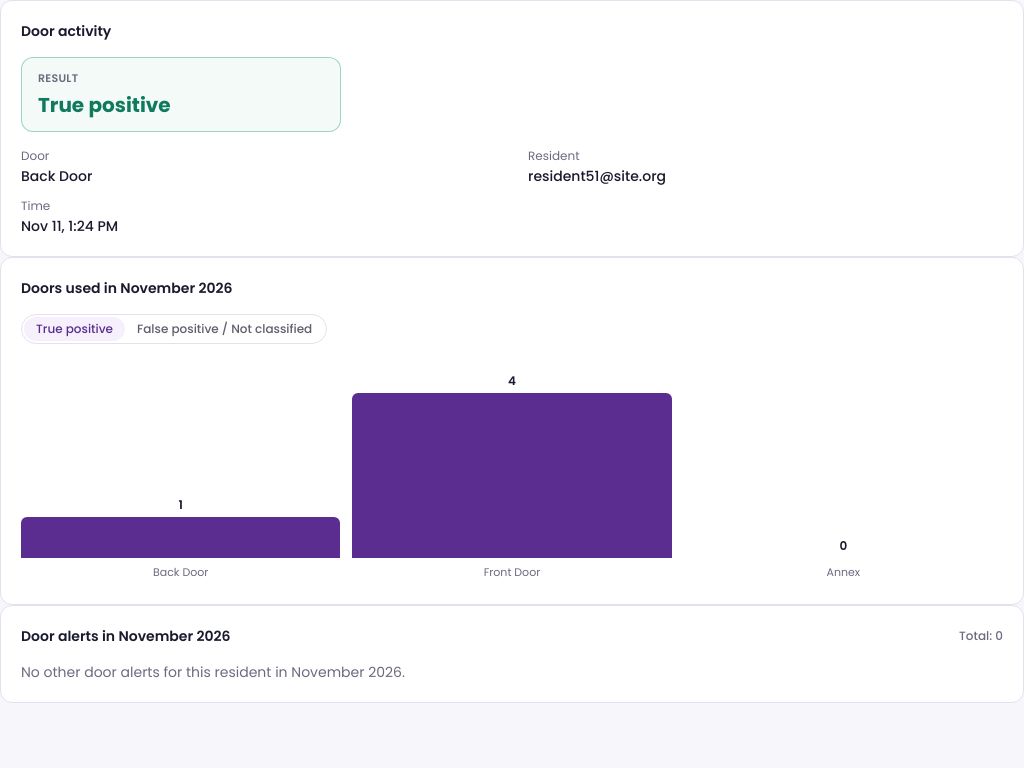
Scenario: DoorSection: doors used chart › toggles to false positive / not classified without reordering the doors
The image size is (1024, 768).
Click the button "False positive / Not classified" at coordinates (225, 328), box [125,316,324,340]
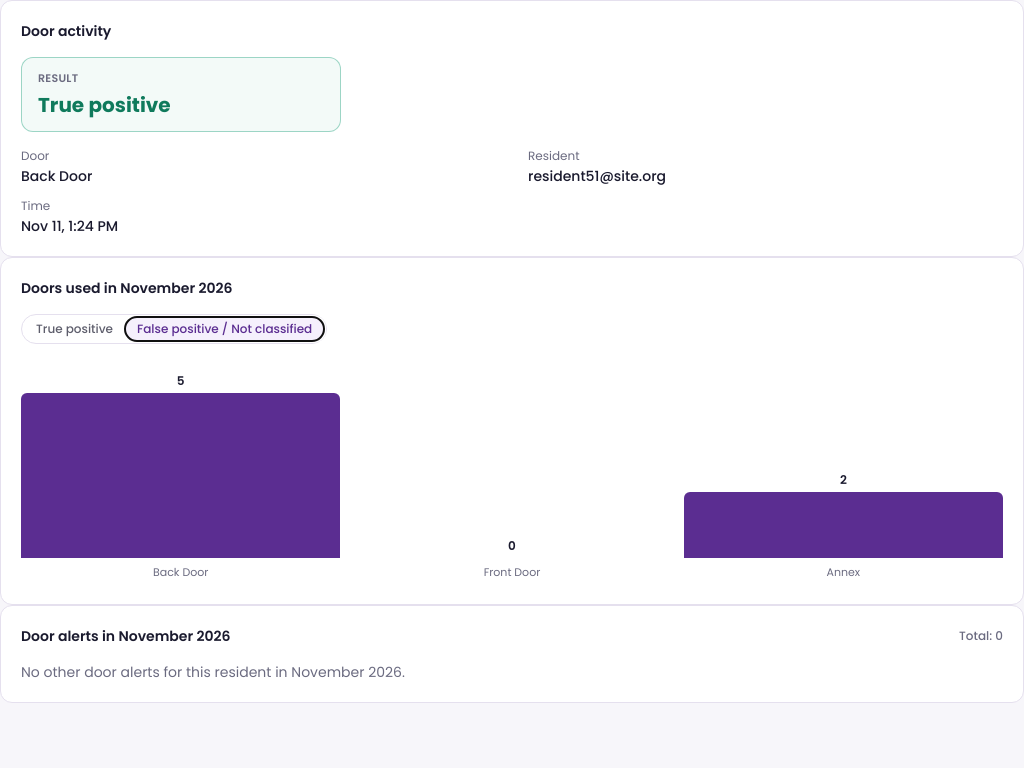
Now the button "False positive / Not classified" is pressed, box [125,316,324,340]
Now the button "True positive" is not pressed, box [24,316,125,340]
